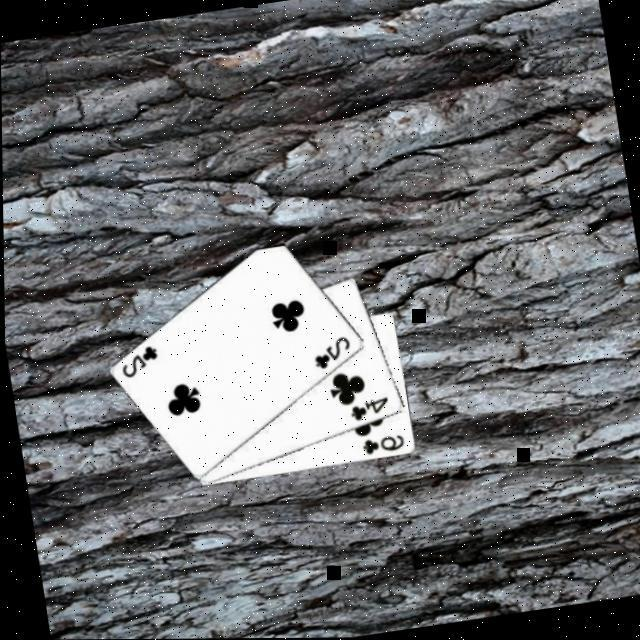2C: (310, 334, 357, 374), (117, 342, 164, 382)
4C: (348, 395, 396, 426)
6C: (360, 433, 409, 460)
